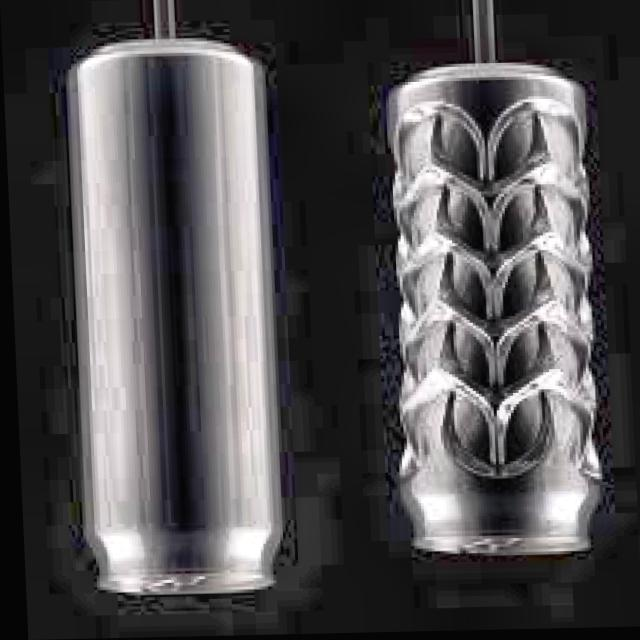can: (56, 34, 290, 604), (370, 55, 614, 573)
